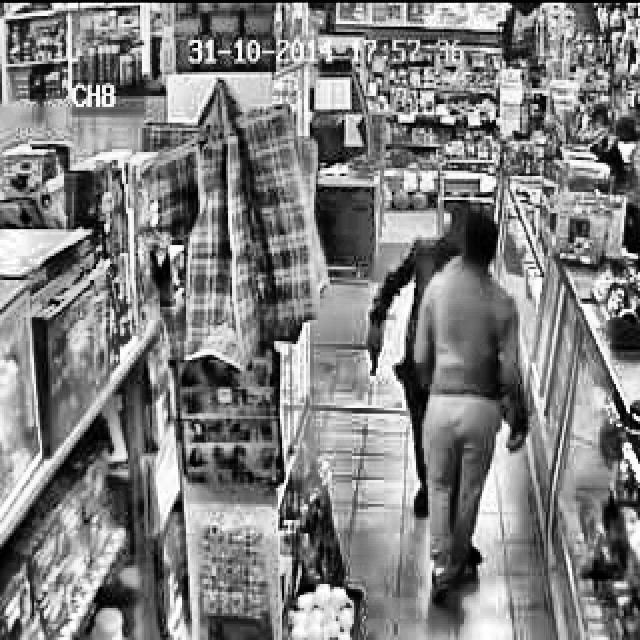robbery: (363, 191, 530, 607)
